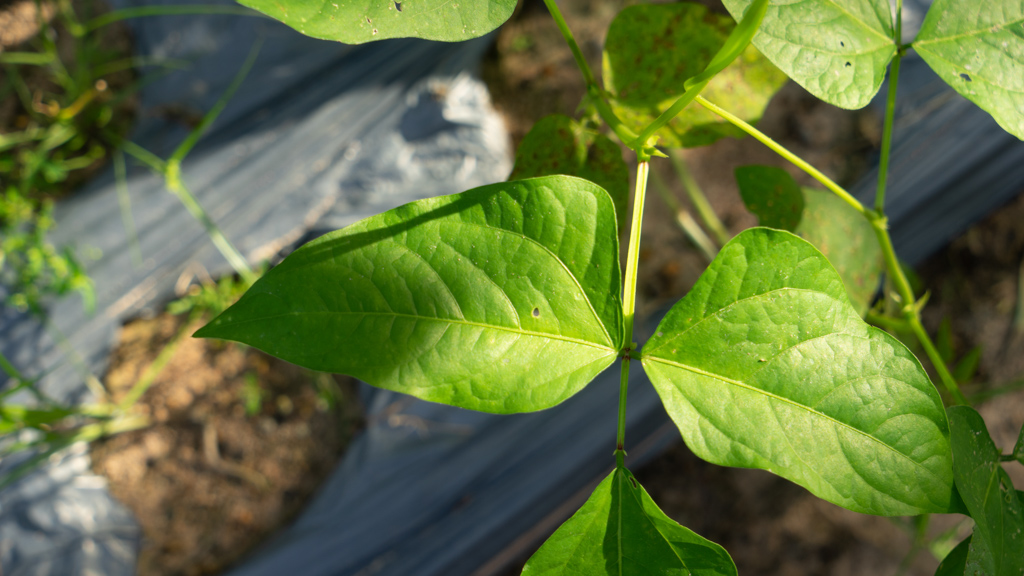Rust: (612, 6, 713, 117), (504, 120, 592, 175)
